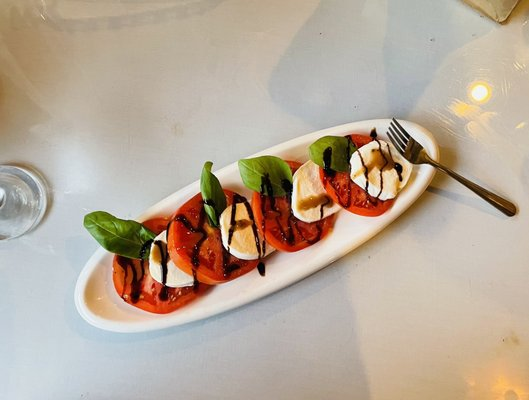burger: (387, 117, 520, 216)
